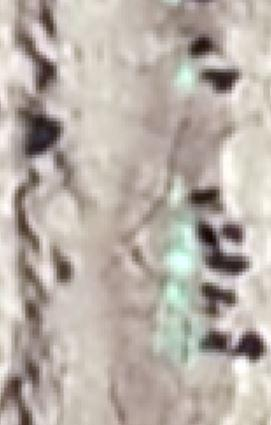cotton: (159, 321, 198, 365), (164, 281, 191, 304), (175, 63, 199, 88), (167, 255, 199, 270), (168, 229, 193, 247), (168, 188, 187, 207)
